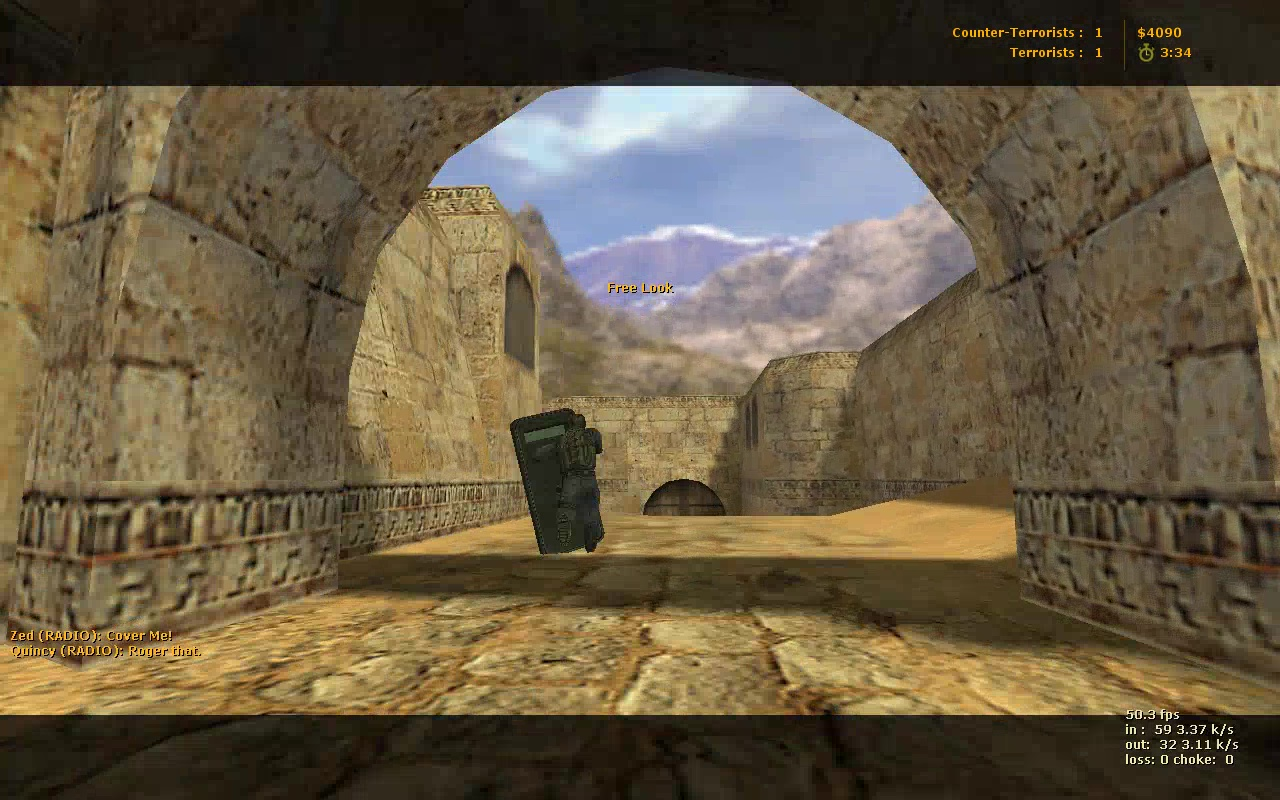ct: (511, 408, 604, 557)
